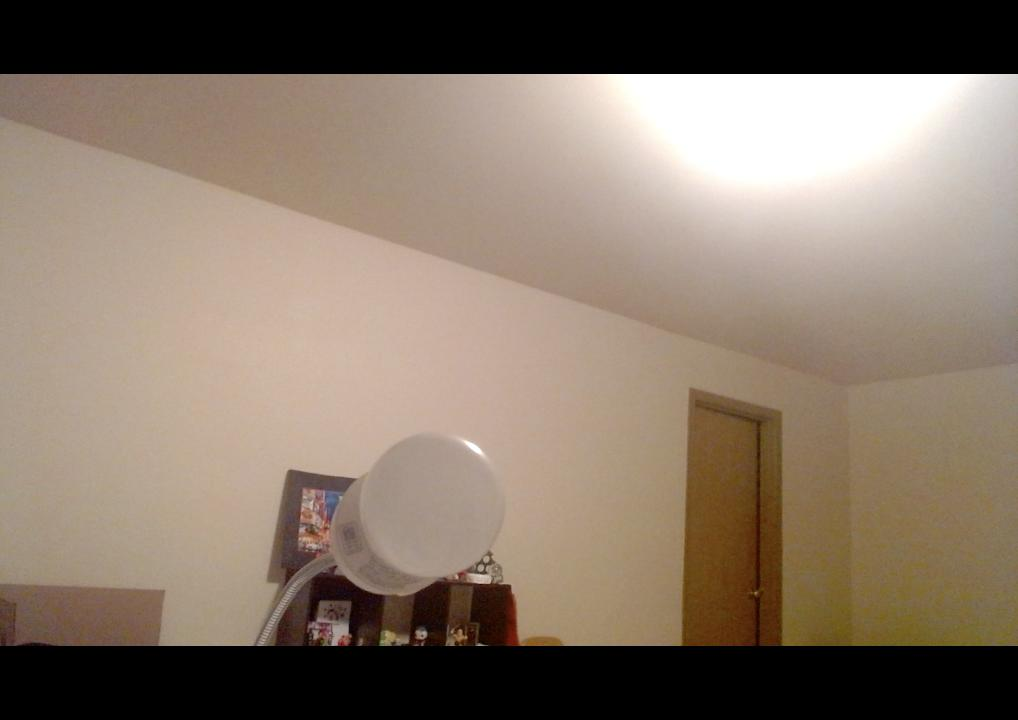Fan: (361, 430, 504, 577)
